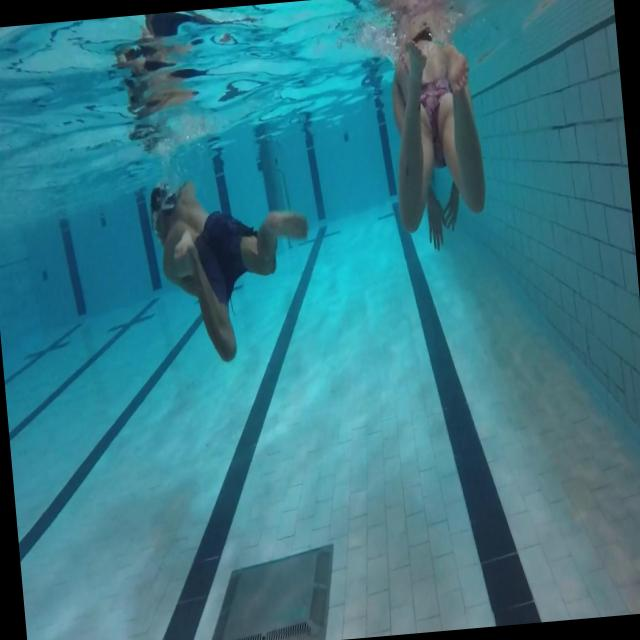human: (146, 168, 319, 368), (382, 18, 491, 252)
